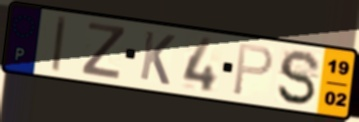4: (180, 34, 222, 95)
I: (49, 15, 68, 75)
K: (137, 28, 177, 88)
P: (231, 42, 276, 98)
S: (275, 48, 323, 108)
Z: (79, 20, 129, 81)
